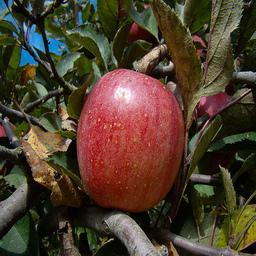apple: (75, 68, 184, 210)
